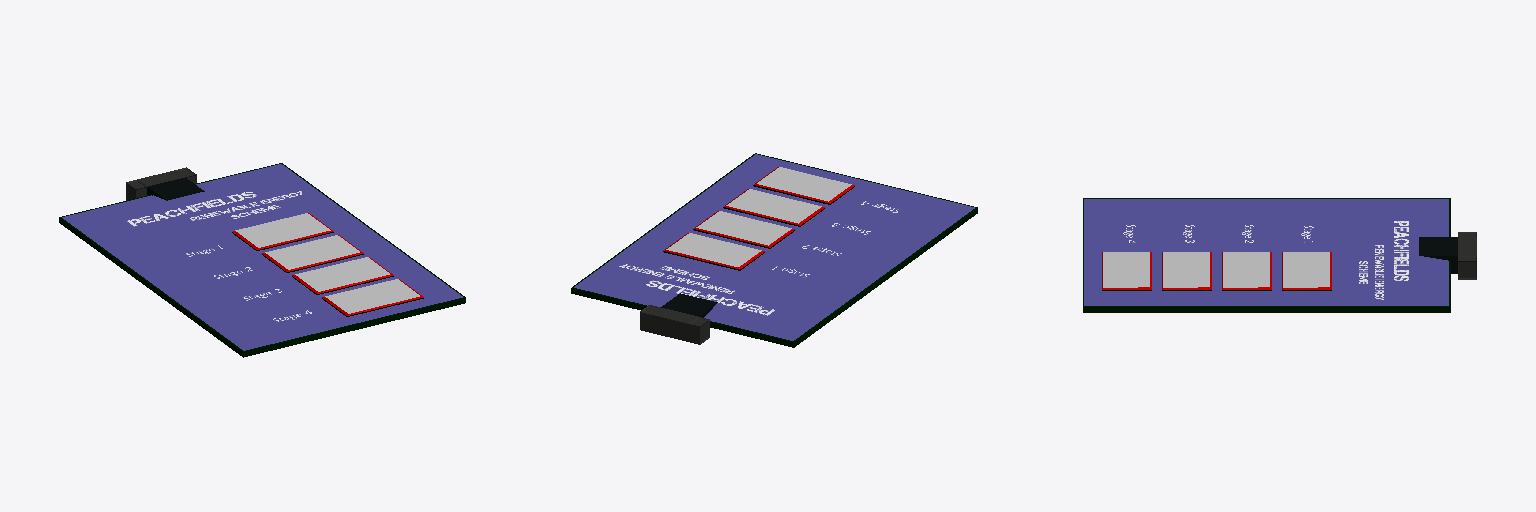
3 views of the same model, side by side, from view 1: azimuth 30°, elevation 25°; view 2: azimuth 150°, elevation 25°; view 3: azimuth 270°, elevation 25° (orthographic).
Visible parts, largest first — view 1: clip_solar_clipboard_house.005; view 2: clip_solar_clipboard_house.005; view 3: clip_solar_clipboard_house.005.
Boxes of the visible parts, box(x1,y1,x2,y2) form: clip_solar_clipboard_house.005: box(59, 163, 465, 357); clip_solar_clipboard_house.005: box(571, 153, 977, 347); clip_solar_clipboard_house.005: box(1083, 198, 1476, 312).
Size of the model in its own units: 0.2144 by 0.0169 by 0.3289.
16 materials, 1 textured.